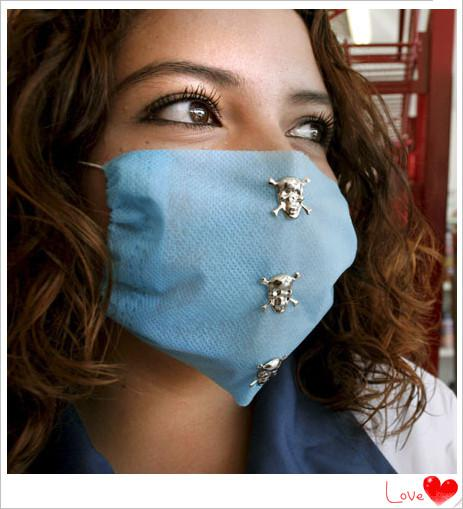OK: (68, 63, 368, 363)
